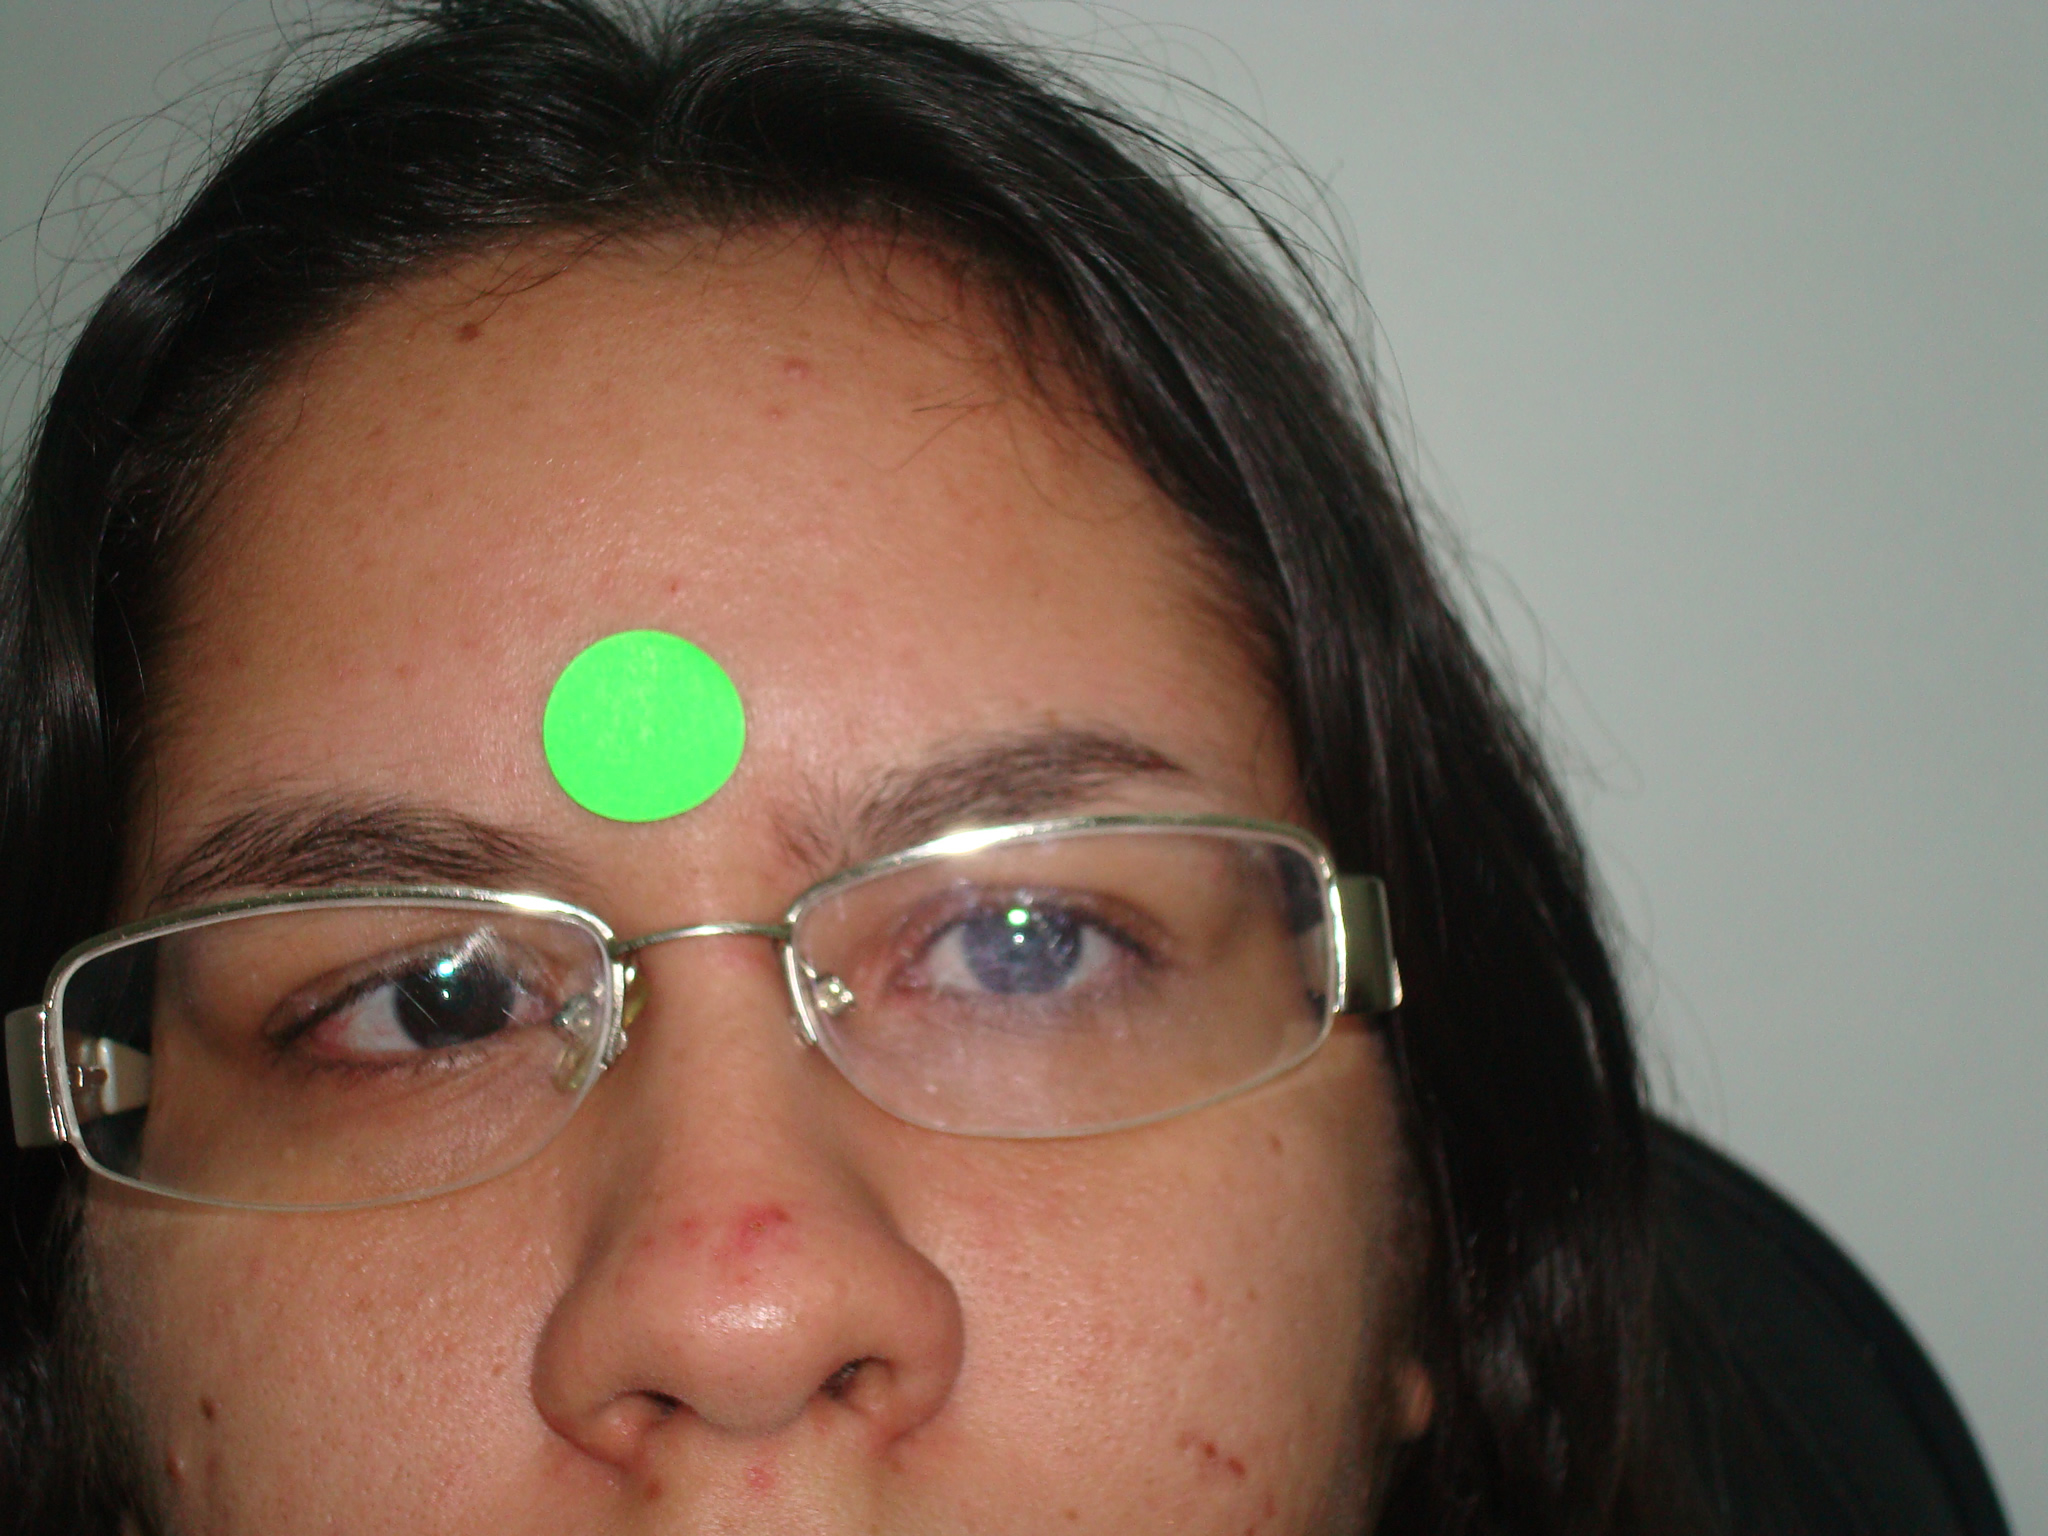flash: (1009, 929, 1029, 949), (437, 986, 455, 1004)
limbo: (397, 936, 511, 1052), (963, 895, 1072, 995)
